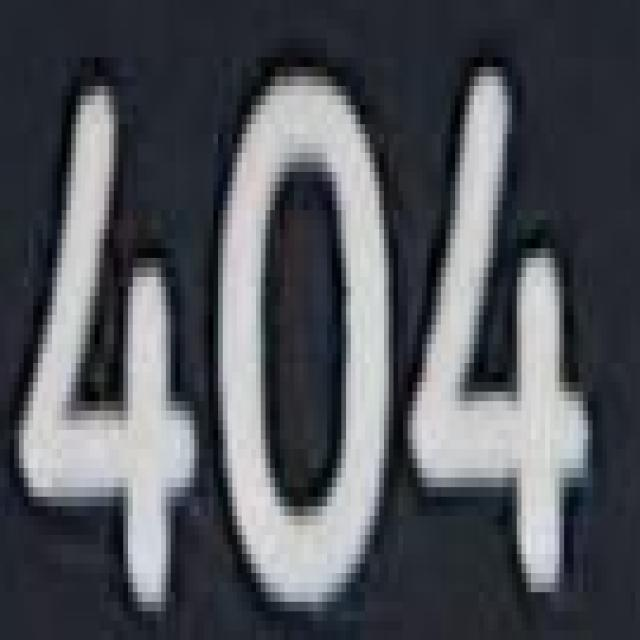character: (10, 72, 203, 640), (212, 58, 402, 631), (408, 59, 598, 606)
